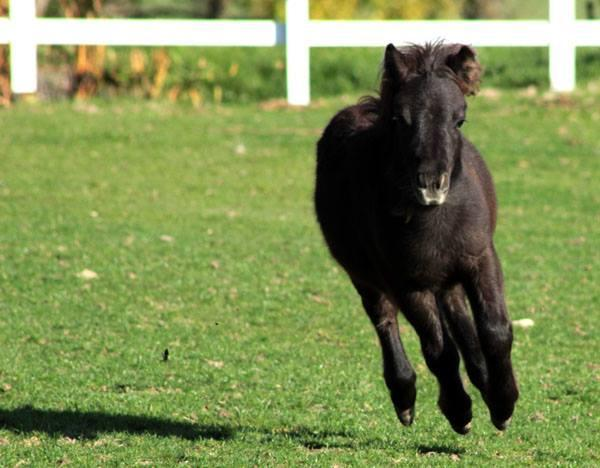horse: (313, 38, 519, 435)
